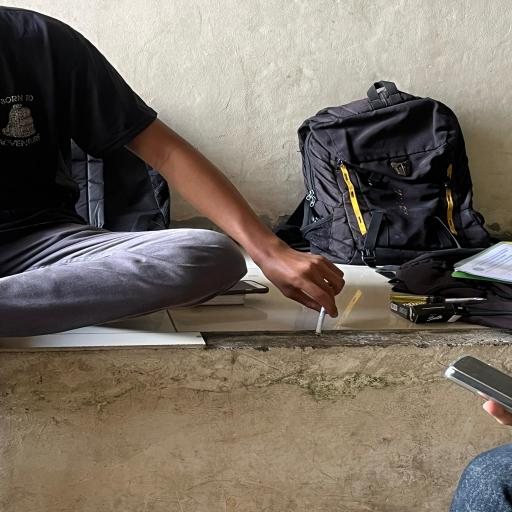terdeteksi pegang rokok: (264, 244, 355, 355)
